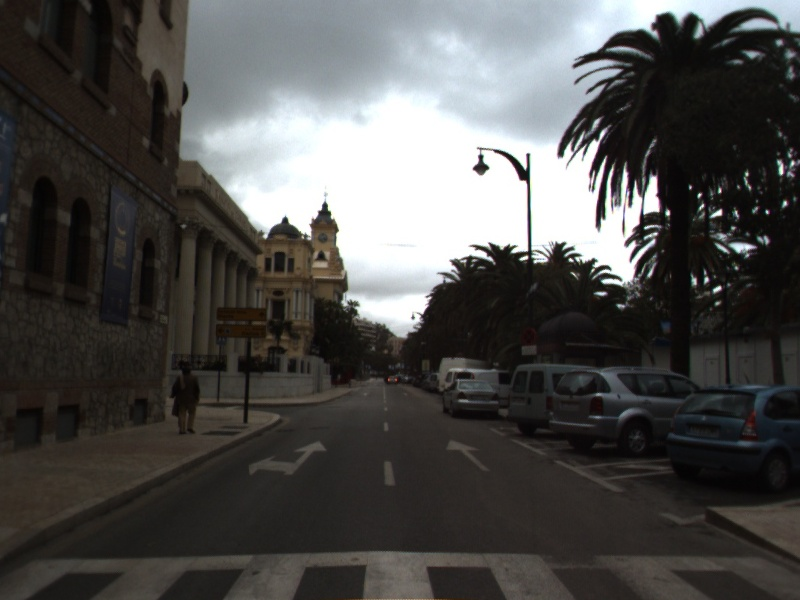STRAIGHT: (444, 438, 493, 474)
STRAIGHT_LEFT: (247, 438, 329, 478)
